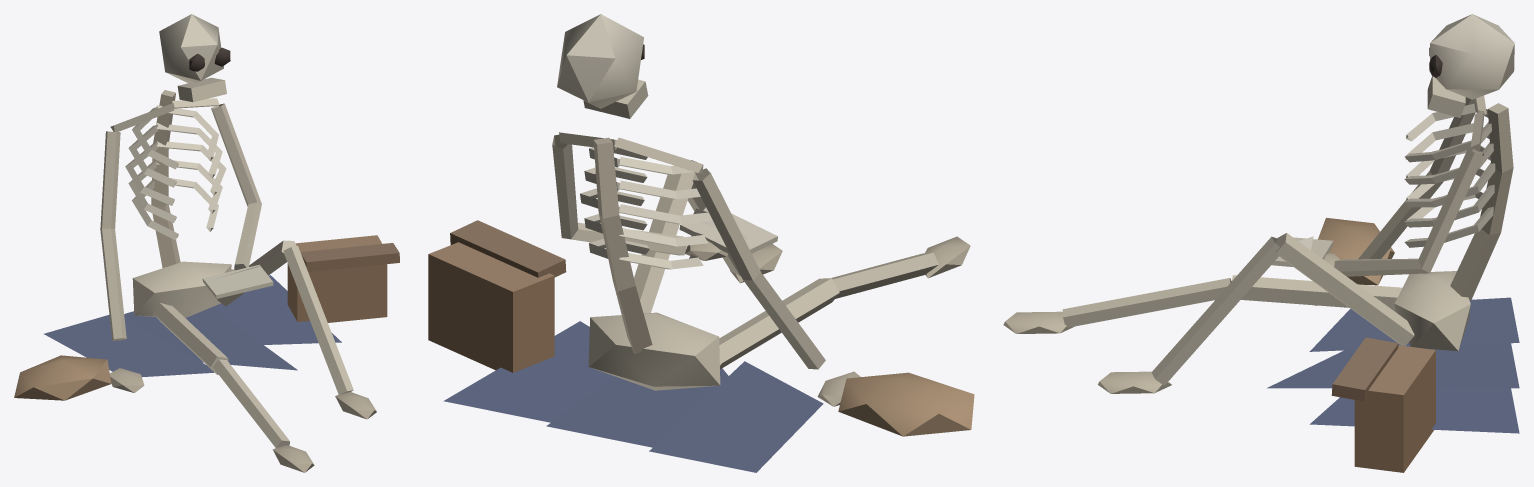
File: esqueleto.glb
3 views of the same model, side by side, from view 1: azimuth 30°, elevation 25°; view 2: azimuth 150°, elevation 25°; view 3: azimuth 270°, elevation 25° (orthographic). The views are drawn at different scales.
Visible parts, largest first — view 1: esqueleto; view 2: esqueleto; view 3: esqueleto.
Part boxes in pixels (<box>): esqueleto: <box>14,14,399,472</box>; esqueleto: <box>428,14,974,472</box>; esqueleto: <box>1003,14,1519,472</box>.
Bounding box in the file's own units: 1.25 × 0.9417 × 1.2.
